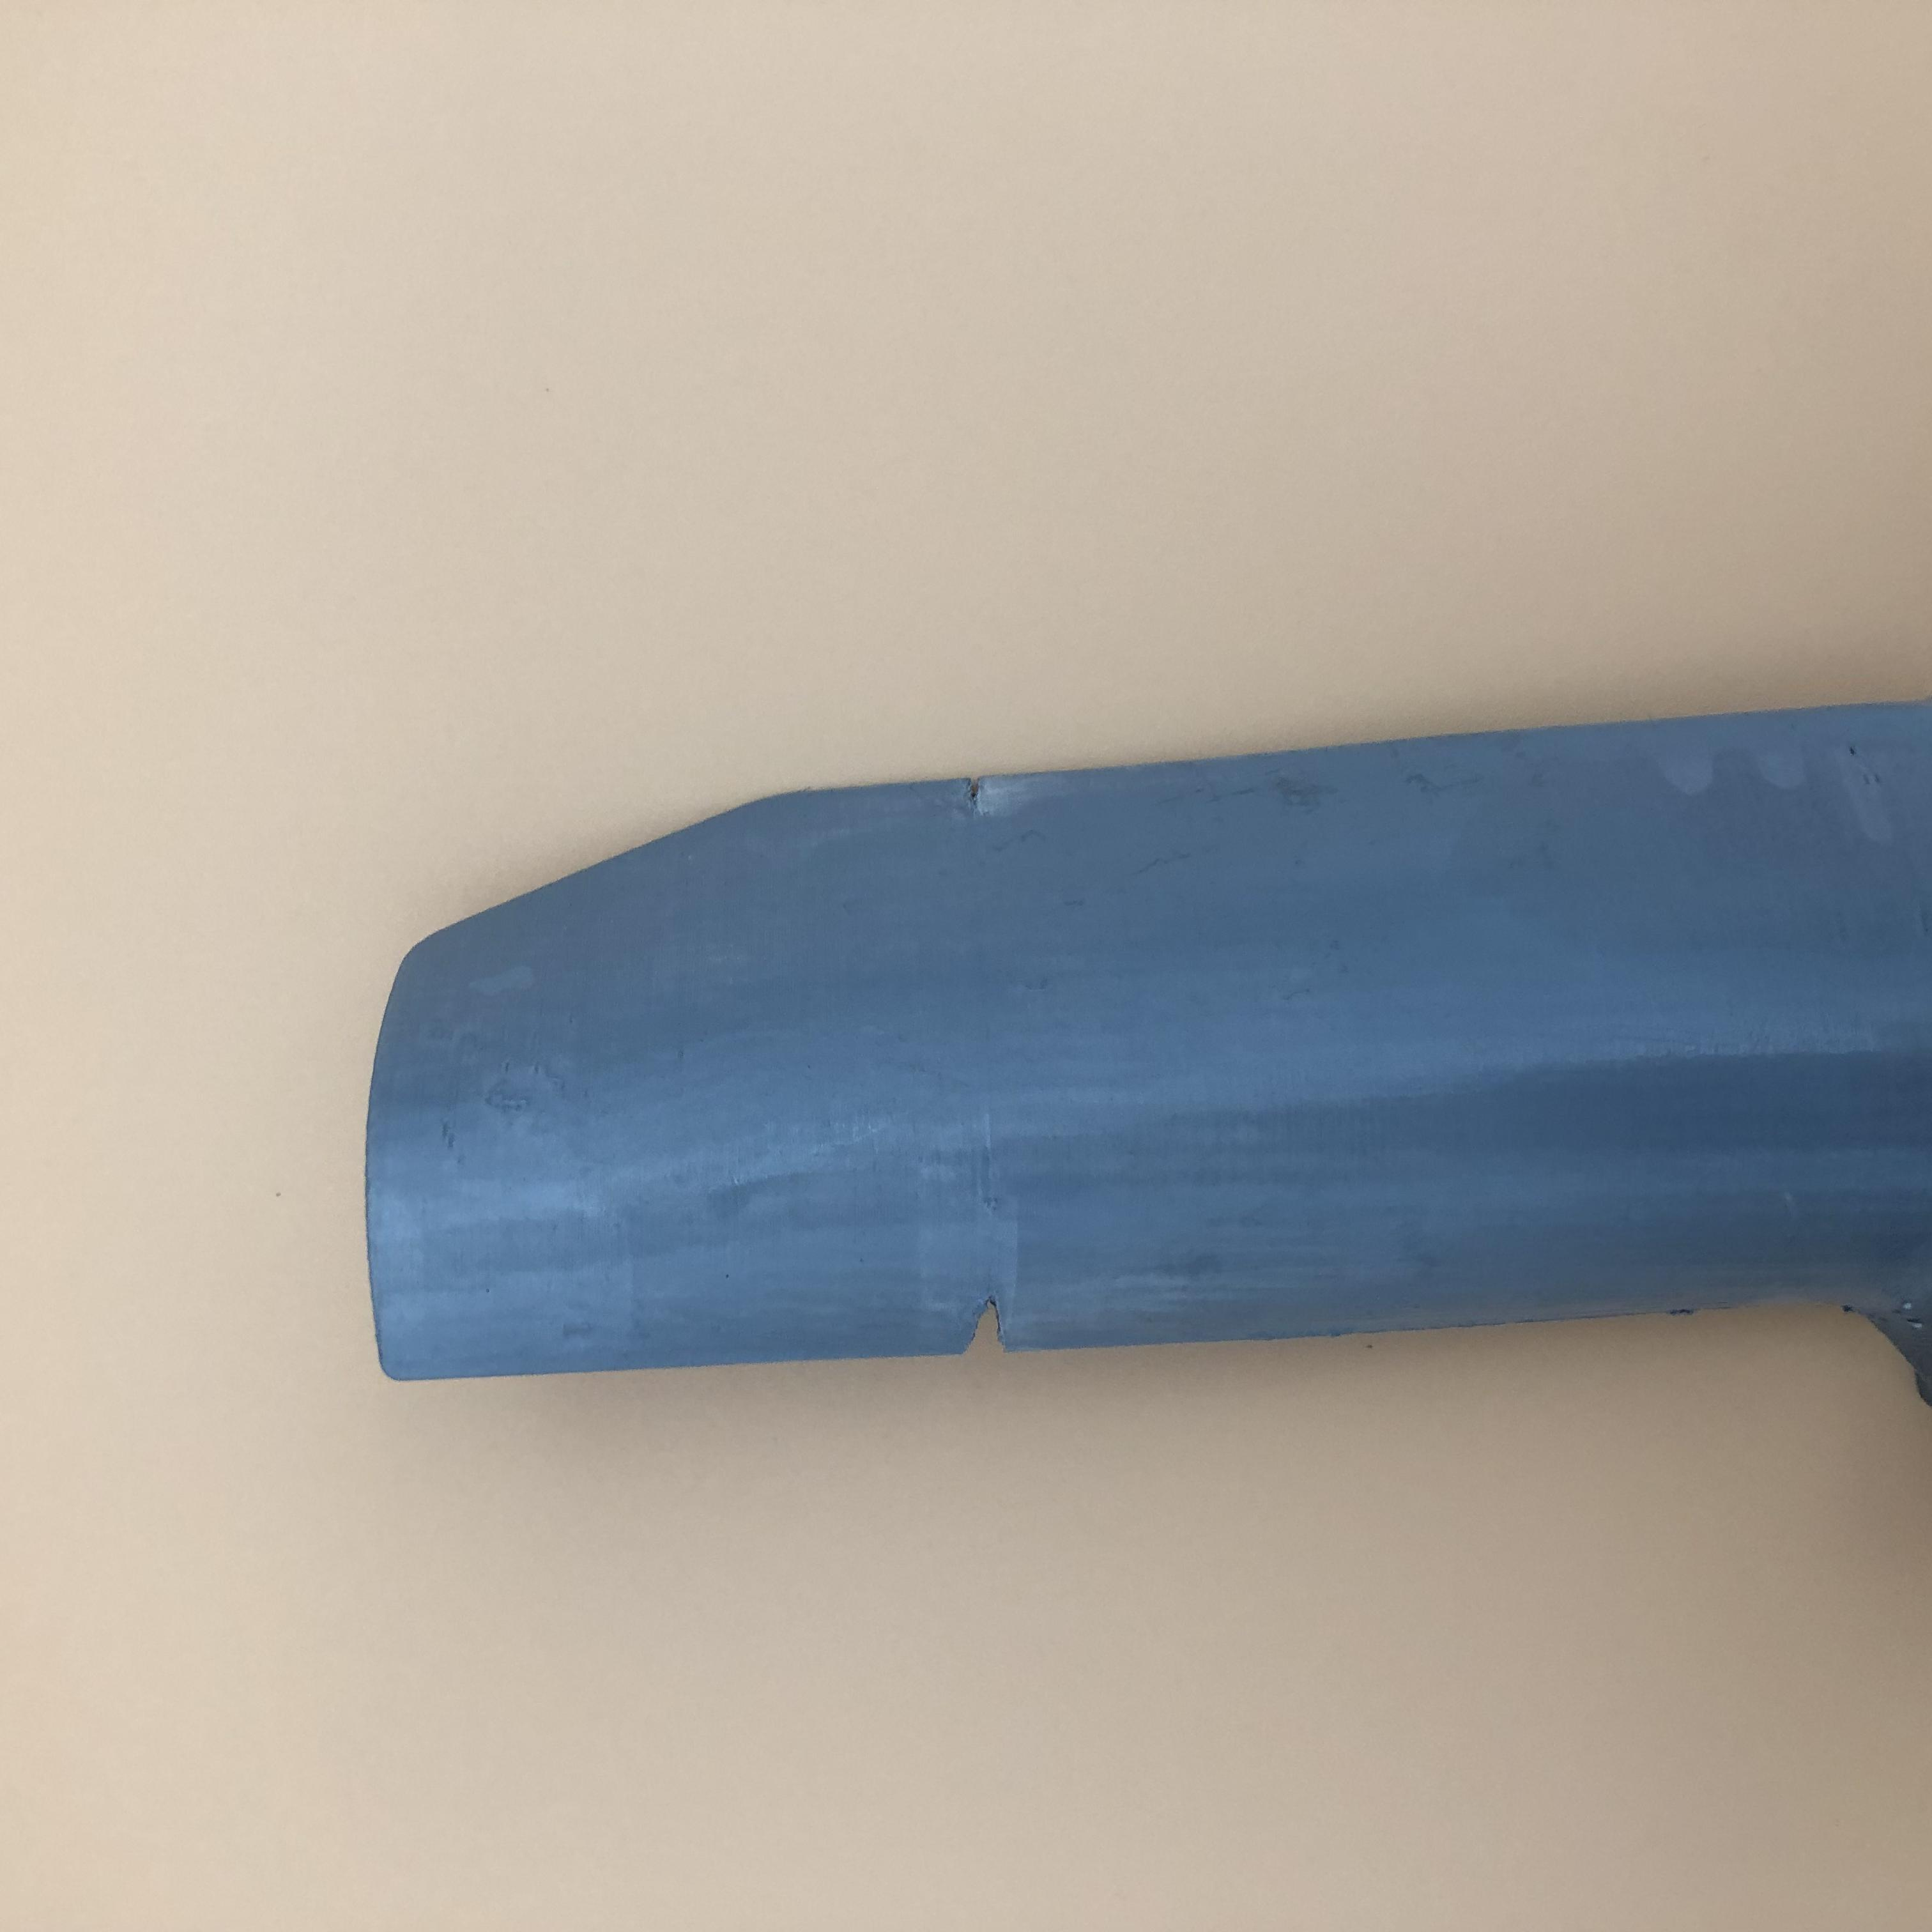groove: (957, 1297, 1023, 1352), (954, 777, 1001, 812)
